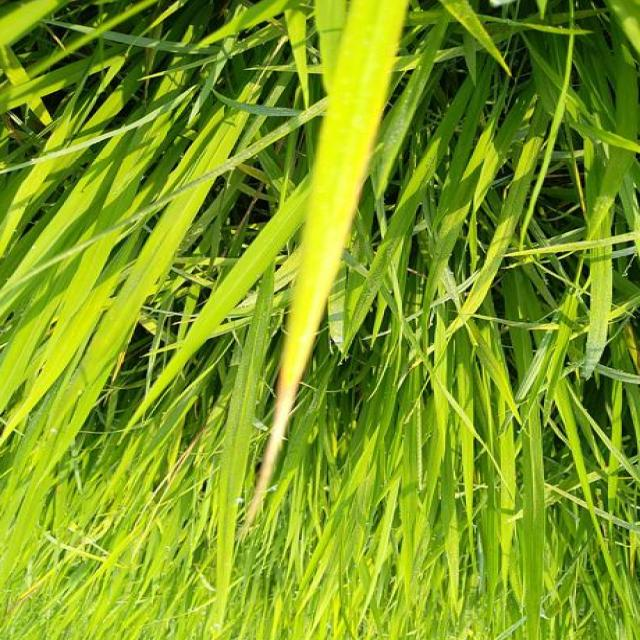Leaf Blight: (246, 196, 348, 526)
